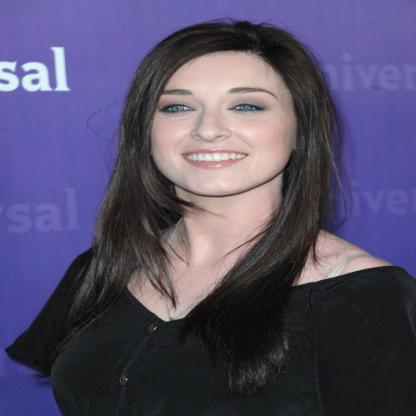long-hair: (80, 198, 356, 256)
